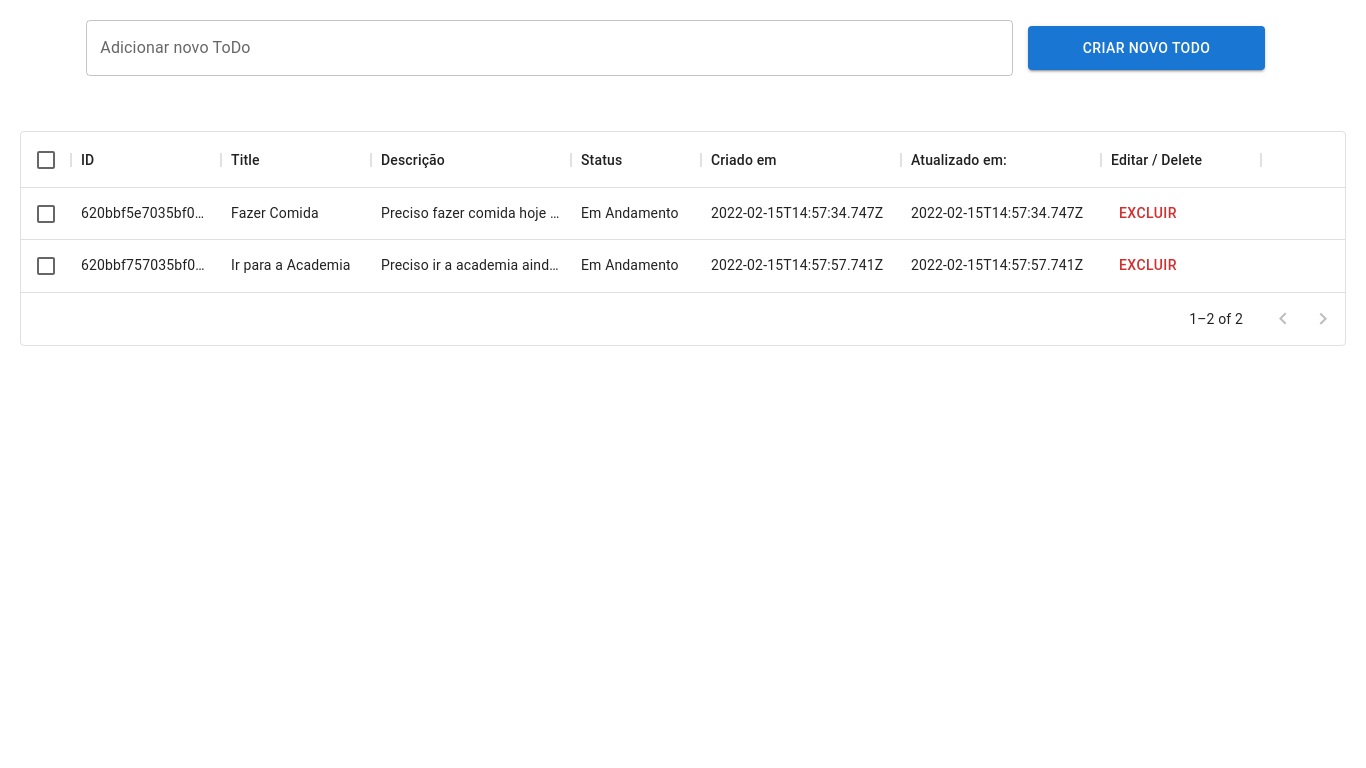
Testa a Home › Testes na criação de um ToDo › Testes para verificar os inputs › deveria abrir um model com dois inputs para preencher as demais informações
Expected: the element with test id "input-create-new-toDo" is shown, [86, 20, 1013, 76]
What coordinates should you click on to do the following:
click the button with test id "button-create-new-toDo"
I would click on:
 (1147, 48)
Its box is [1028, 26, 1265, 70].
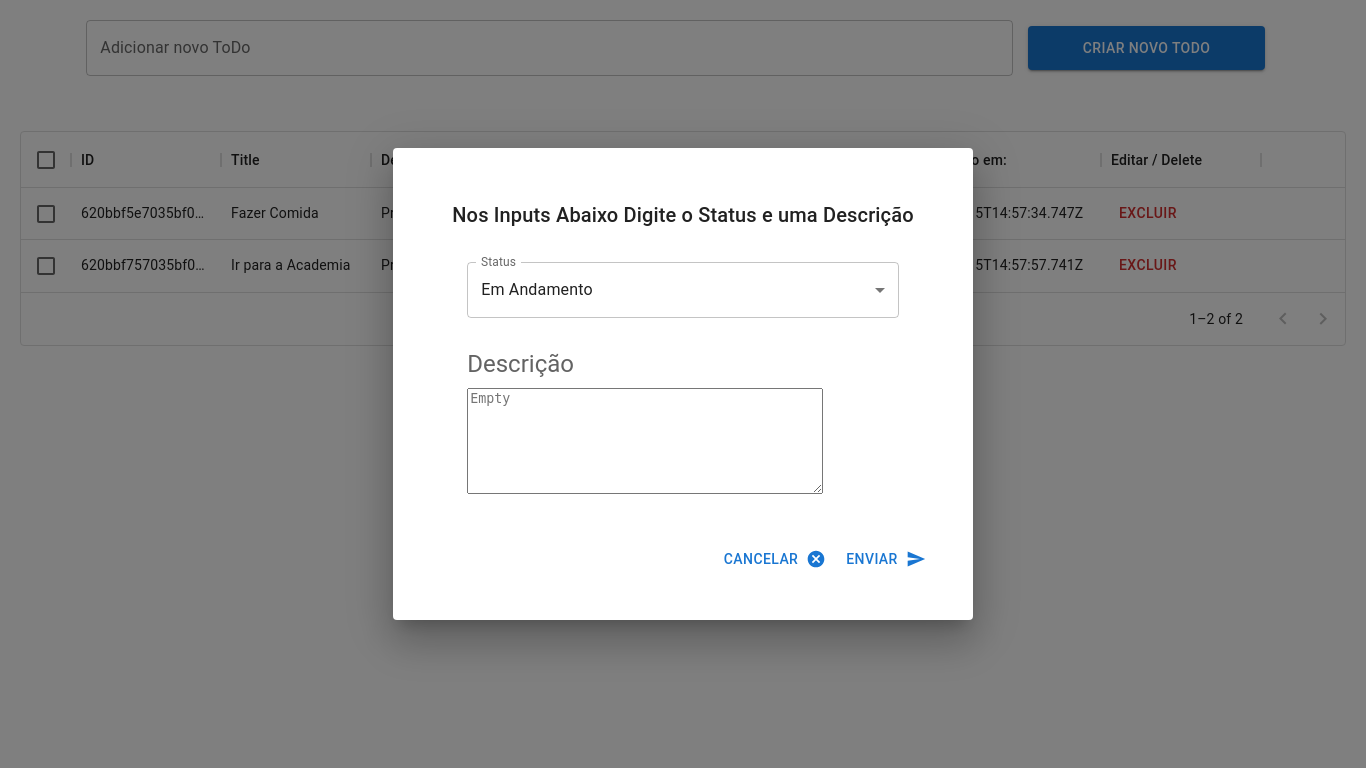
Expected: the heading "Nos Inputs Abaixo Digite o Status e uma Descrição" is shown, [452, 202, 914, 226]
Expected: the element with test id "input-status-new-toDo" is shown, [467, 262, 899, 318]
Expected: the text box with test id "input-description-new-toDo" is shown, [467, 388, 823, 494]
